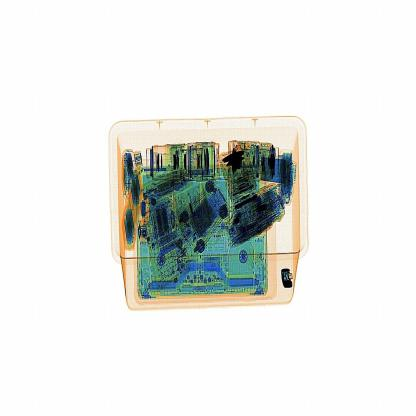pliers: (281, 262, 297, 294)
